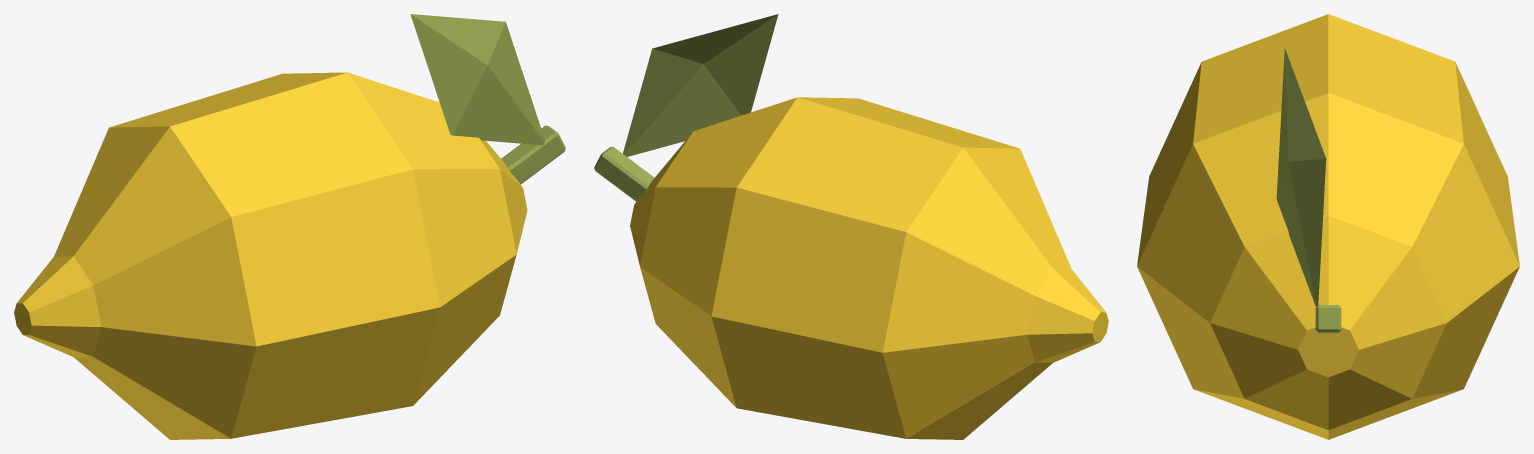
Rendered from 22-lemon.glb.
3 views of the same model, side by side, from view 1: azimuth 30°, elevation 25°; view 2: azimuth 150°, elevation 25°; view 3: azimuth 270°, elevation 25° (orthographic). The views are drawn at different scales.
Parts seen in each view (by area): view 1: Single folded lemon leaf; view 2: Single folded lemon leaf; view 3: Single folded lemon leaf.
Part boxes in pixels (x1,y1,x2,y2): Single folded lemon leaf: [14, 14, 565, 439]; Single folded lemon leaf: [594, 14, 1108, 439]; Single folded lemon leaf: [1137, 14, 1519, 439].
Bounding box in the file's own units: 2.12 × 1.5 × 1.26.
